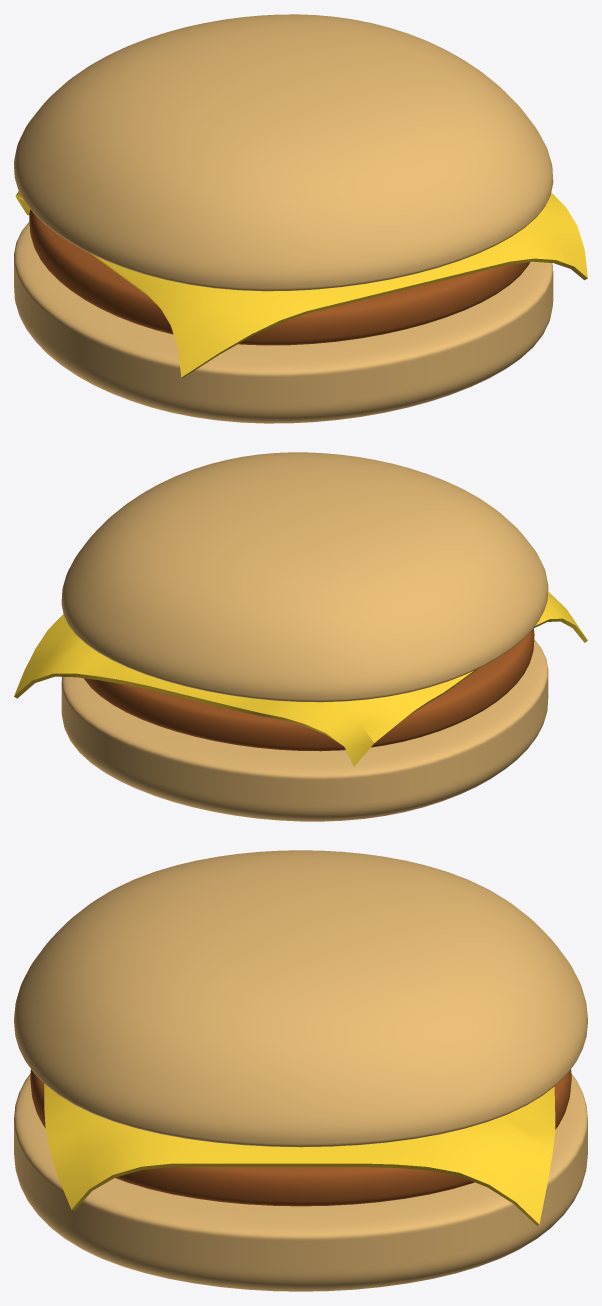
File: hamburger.glb
The picture shows the model from 3 angles, top to bottom: view 1: azimuth 30°, elevation 25°; view 2: azimuth 150°, elevation 25°; view 3: azimuth 270°, elevation 25°; orthographic projection. The views are drawn at different scales.
Visible parts, largest first — view 1: Cube.002, Cube, Plane, Cube.001; view 2: Cube.002, Cube, Cube.001, Plane; view 3: Cube.002, Cube, Plane, Cube.001.
Part boxes in pixels (box(x1,y1,x2,y2)): Cube.002: box(14, 14, 553, 291); Cube: box(14, 221, 553, 423); Plane: box(15, 191, 587, 378); Cube.001: box(29, 209, 529, 345); Cube.002: box(61, 452, 548, 702); Cube: box(61, 639, 548, 821); Cube.001: box(84, 629, 534, 751); Plane: box(14, 592, 587, 766); Cube.002: box(14, 850, 587, 1147); Cube: box(14, 1073, 587, 1291); Plane: box(44, 1084, 555, 1225); Cube.001: box(30, 1069, 571, 1206).
Bounding box in the file's own units: 9.15 × 5.21 × 9.15.
